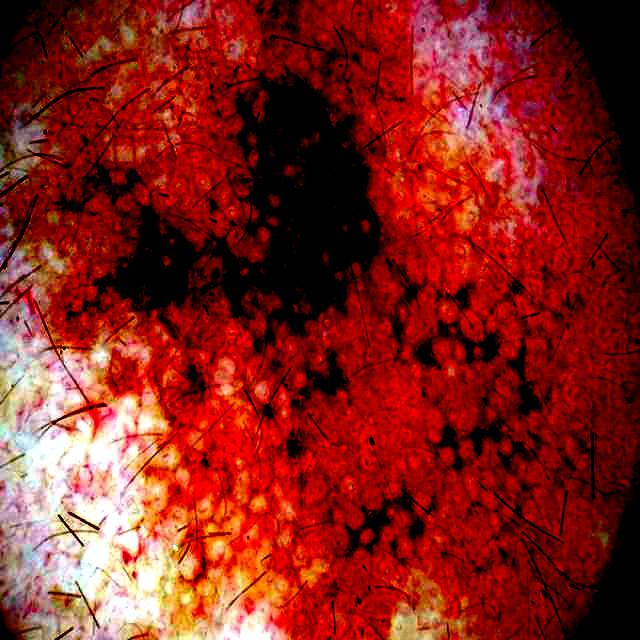MEL: (46, 47, 596, 637)
